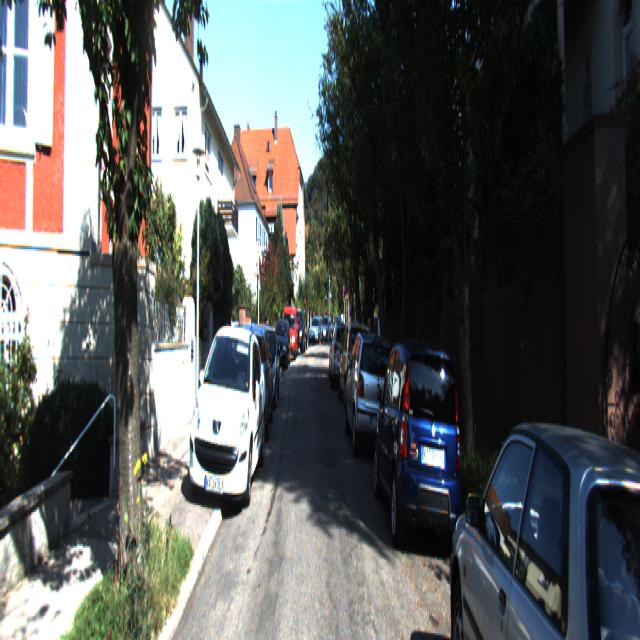Car: (452, 376, 640, 638), (372, 317, 466, 560), (188, 312, 268, 514), (346, 324, 400, 468), (231, 319, 276, 446), (337, 316, 374, 411), (247, 319, 282, 408), (328, 318, 356, 394), (271, 317, 290, 372), (282, 302, 299, 360), (289, 307, 305, 355)
